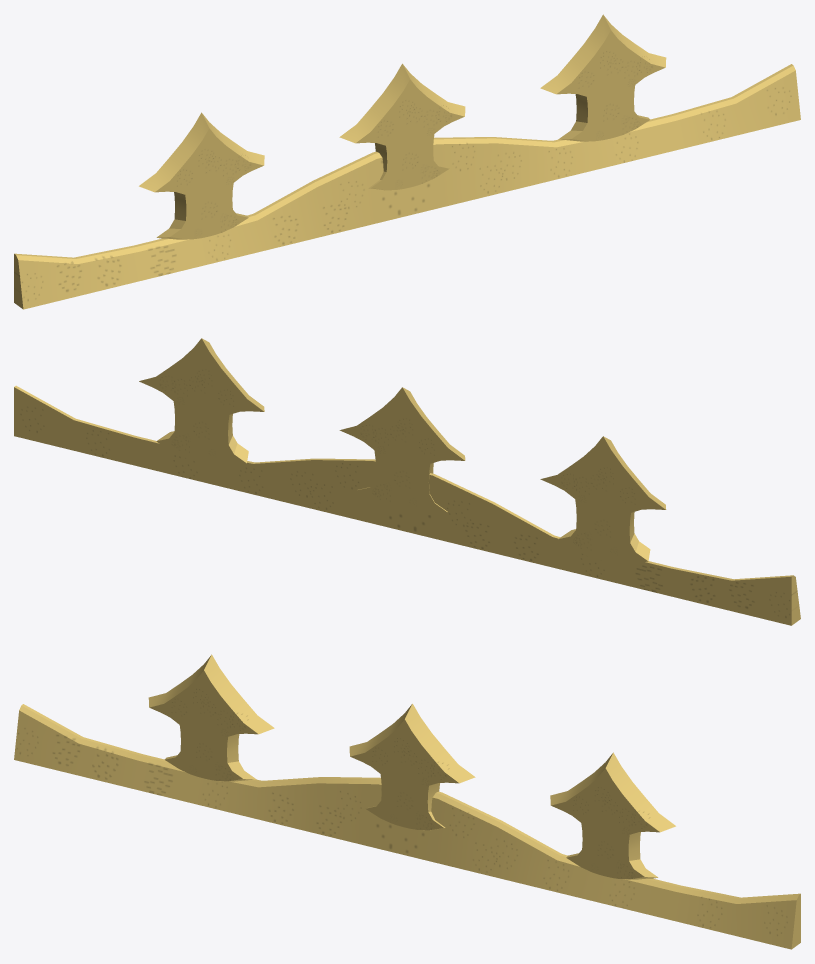
Rendered from Decoration_01.fbx.
The picture shows the model from 3 angles, top to bottom: view 1: azimuth 30°, elevation 25°; view 2: azimuth 150°, elevation 25°; view 3: azimuth 330°, elevation 25°; orthographic projection.
Visible parts, largest first — view 1: Decoration_01; view 2: Decoration_01; view 3: Decoration_01.
Part boxes in pixels (x1,y1,x2,y2): Decoration_01: [14, 14, 800, 309]; Decoration_01: [14, 338, 800, 625]; Decoration_01: [14, 654, 800, 949].
Size of the model in its own units: 5 by 0.8862 by 0.1097.
1 material, 1 textured.
